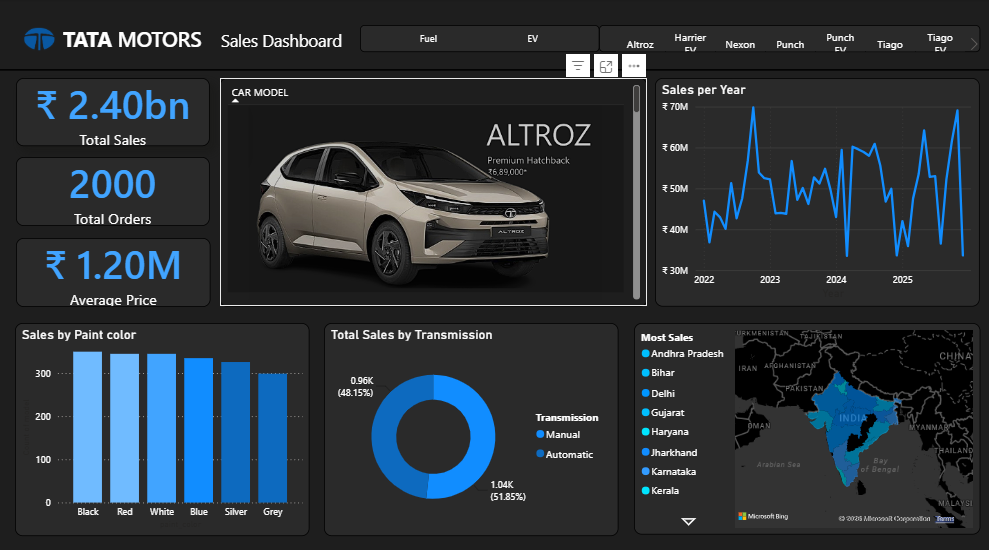

The page's visual inventory and layout, read from the dashboard file:
{"tool":"powerbi","page":{"name":"Page 1","canvas":[1280,720],"ordinal":0},"visuals":[{"type":"shape","box":[0,28.9,1279.5,128.7],"z":3000},{"type":"card","title":"TOTAL SALES","fields":{"Values":["Sum(car_data_cleaned.price)"]},"box":[20.2,102.7,250.1,88.2],"z":4000},{"type":"textbox","box":[76.4,29.4,204.2,51.4],"z":5000},{"type":"image","box":[20.6,25,58.8,58.8],"z":6000},{"type":"textbox","box":[280.5,34.7,183.6,40],"z":7000},{"type":"filledMap","fields":{"Category":["car_data_cleaned.state"],"Series":["car_data_cleaned.state"]},"box":[818.3,419.3,446.7,273.3],"z":8000},{"type":"donutChart","fields":{"Category":["car_data_cleaned.transmission"],"Y":["CountNonNull(car_data_cleaned.transmission)"]},"box":[417.8,419.3,380.2,274.7],"z":9000},{"type":"columnChart","title":"Sales by Paint color","fields":{"Y":["CountNonNull(car_data_cleaned.model)"],"Category":["car_data_cleaned.paint_color"]},"box":[18.8,419.3,380.2,274.7],"z":10000},{"type":"slicer","fields":{"Values":["VechileCategory.Category"]},"box":[464.1,34.7,309.4,34.7],"z":11000},{"type":"slicer","fields":{"Values":["car_data_cleaned.model"]},"box":[773.5,34.7,491.6,34.7],"z":12000},{"type":"lineChart","title":"Sales per Year","fields":{"Y":["Sum(car_data_cleaned.price)"],"Category":["car_data_cleaned.date.Variation.Date Hierarchy.Year","car_data_cleaned.date.Variation.Date Hierarchy.Month"]},"box":[845.8,102.7,419.3,294.9],"z":13000},{"type":"card","title":"total sales","fields":{"Values":["Avg(car_data_cleaned.price)"]},"box":[20.5,309.3,251.2,88.9],"z":14000},{"type":"card","title":"total sales","fields":{"Values":["Sum(car_data_cleaned.orders)"]},"box":[20.5,205.1,249.5,88.9],"z":15000},{"type":"tableEx","fields":{"Values":["Model assets.image_url"]},"box":[283.4,102.7,550.8,294.9],"z":16000}]}

Visuals, with their boxes on the page's 1280x720 design canvas (x1, y1, x2, y2). These are canvas units, not pixel positions in the 989x550 screenshot, which may show the page scaled, cropped or inside an application window:
shape: 0/29/1280/158
"TOTAL SALES" card: 20/103/270/191
textbox: 76/29/281/81
image: 21/25/79/84
textbox: 280/35/464/75
filledMap - car_data_cleaned.state x car_data_cleaned.state: 818/419/1265/693
donutChart - car_data_cleaned.transmission x CountNonNull(car_data_cleaned.transmission): 418/419/798/694
"Sales by Paint color" columnChart: 19/419/399/694
slicer - VechileCategory.Category: 464/35/774/69
slicer - car_data_cleaned.model: 774/35/1265/69
"Sales per Year" lineChart: 846/103/1265/398
"total sales" card: 20/309/272/398
"total sales" card: 20/205/270/294
tableEx - Model assets.image_url: 283/103/834/398
